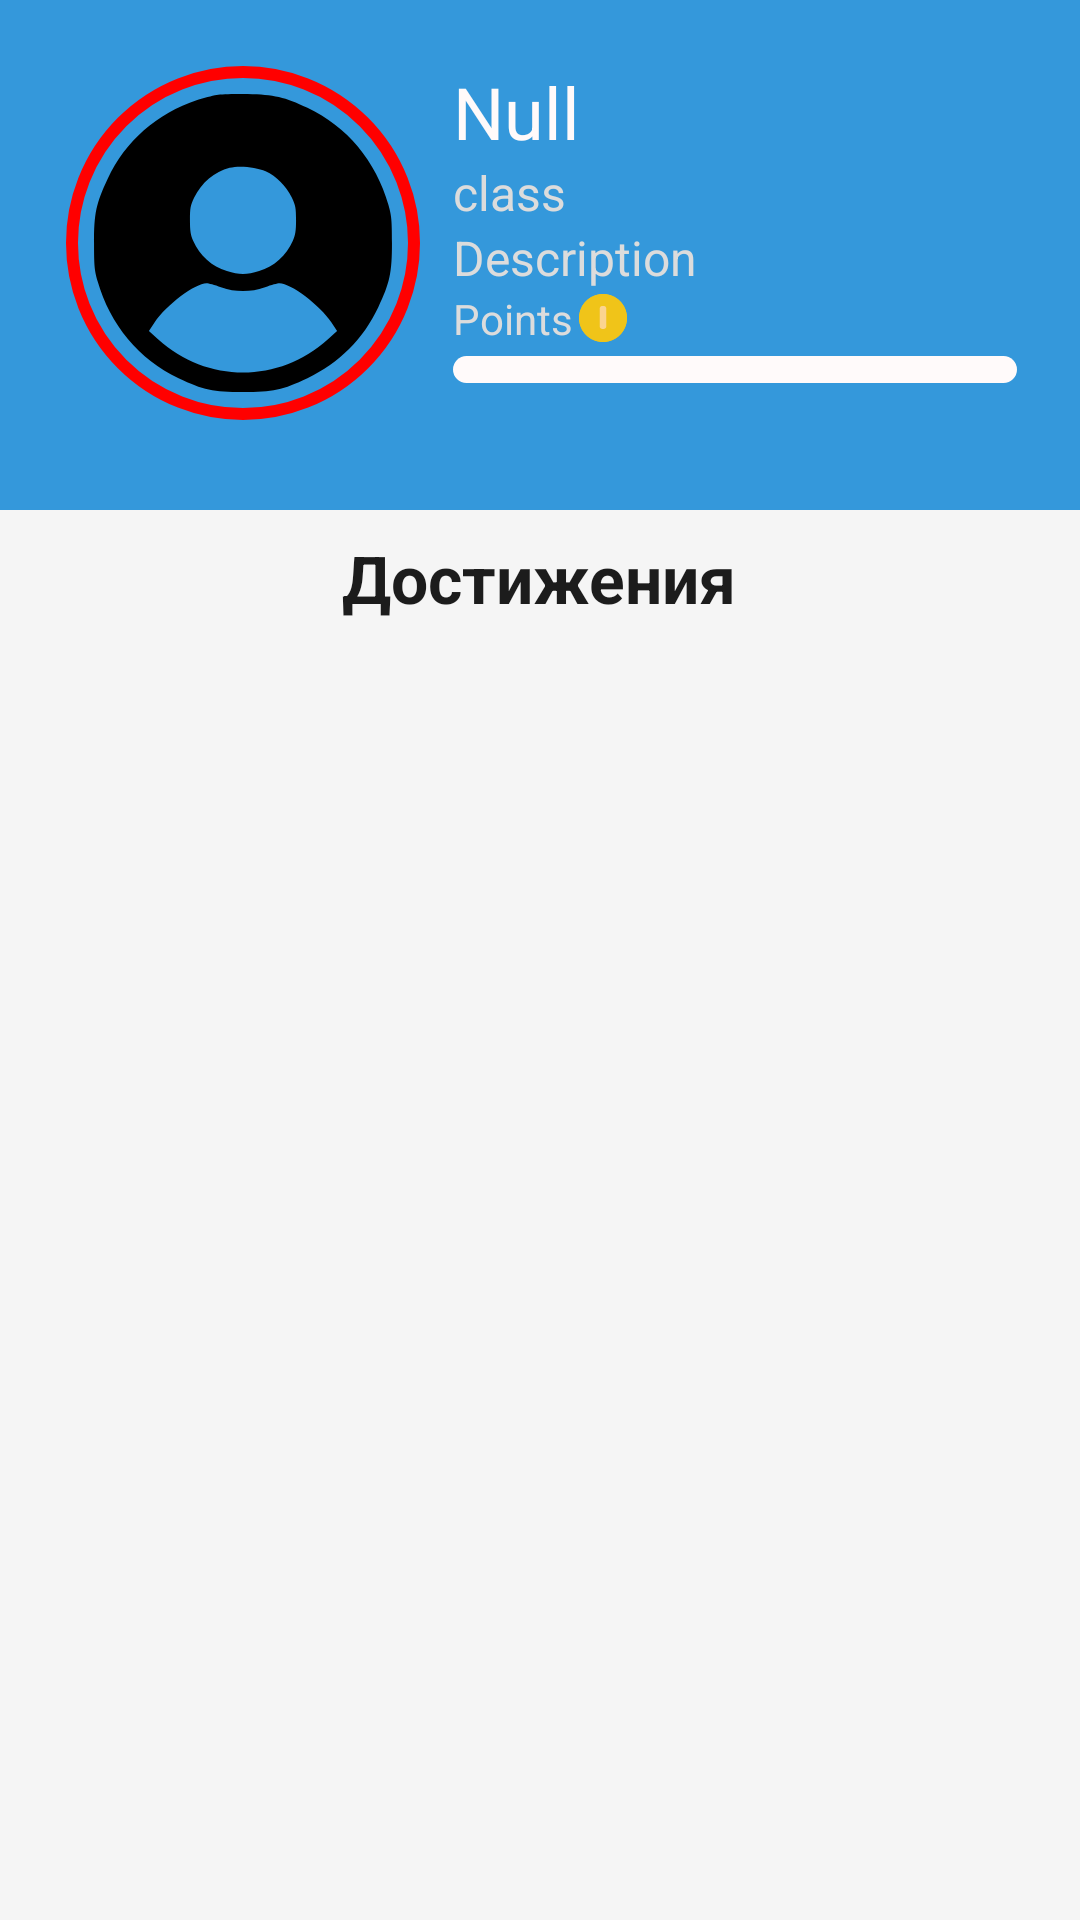

Where icons sit on this 1080x1920 app screen, as (x1, y1, x2, y2):
coin: (579, 294, 627, 342)
user: (66, 66, 420, 420)
